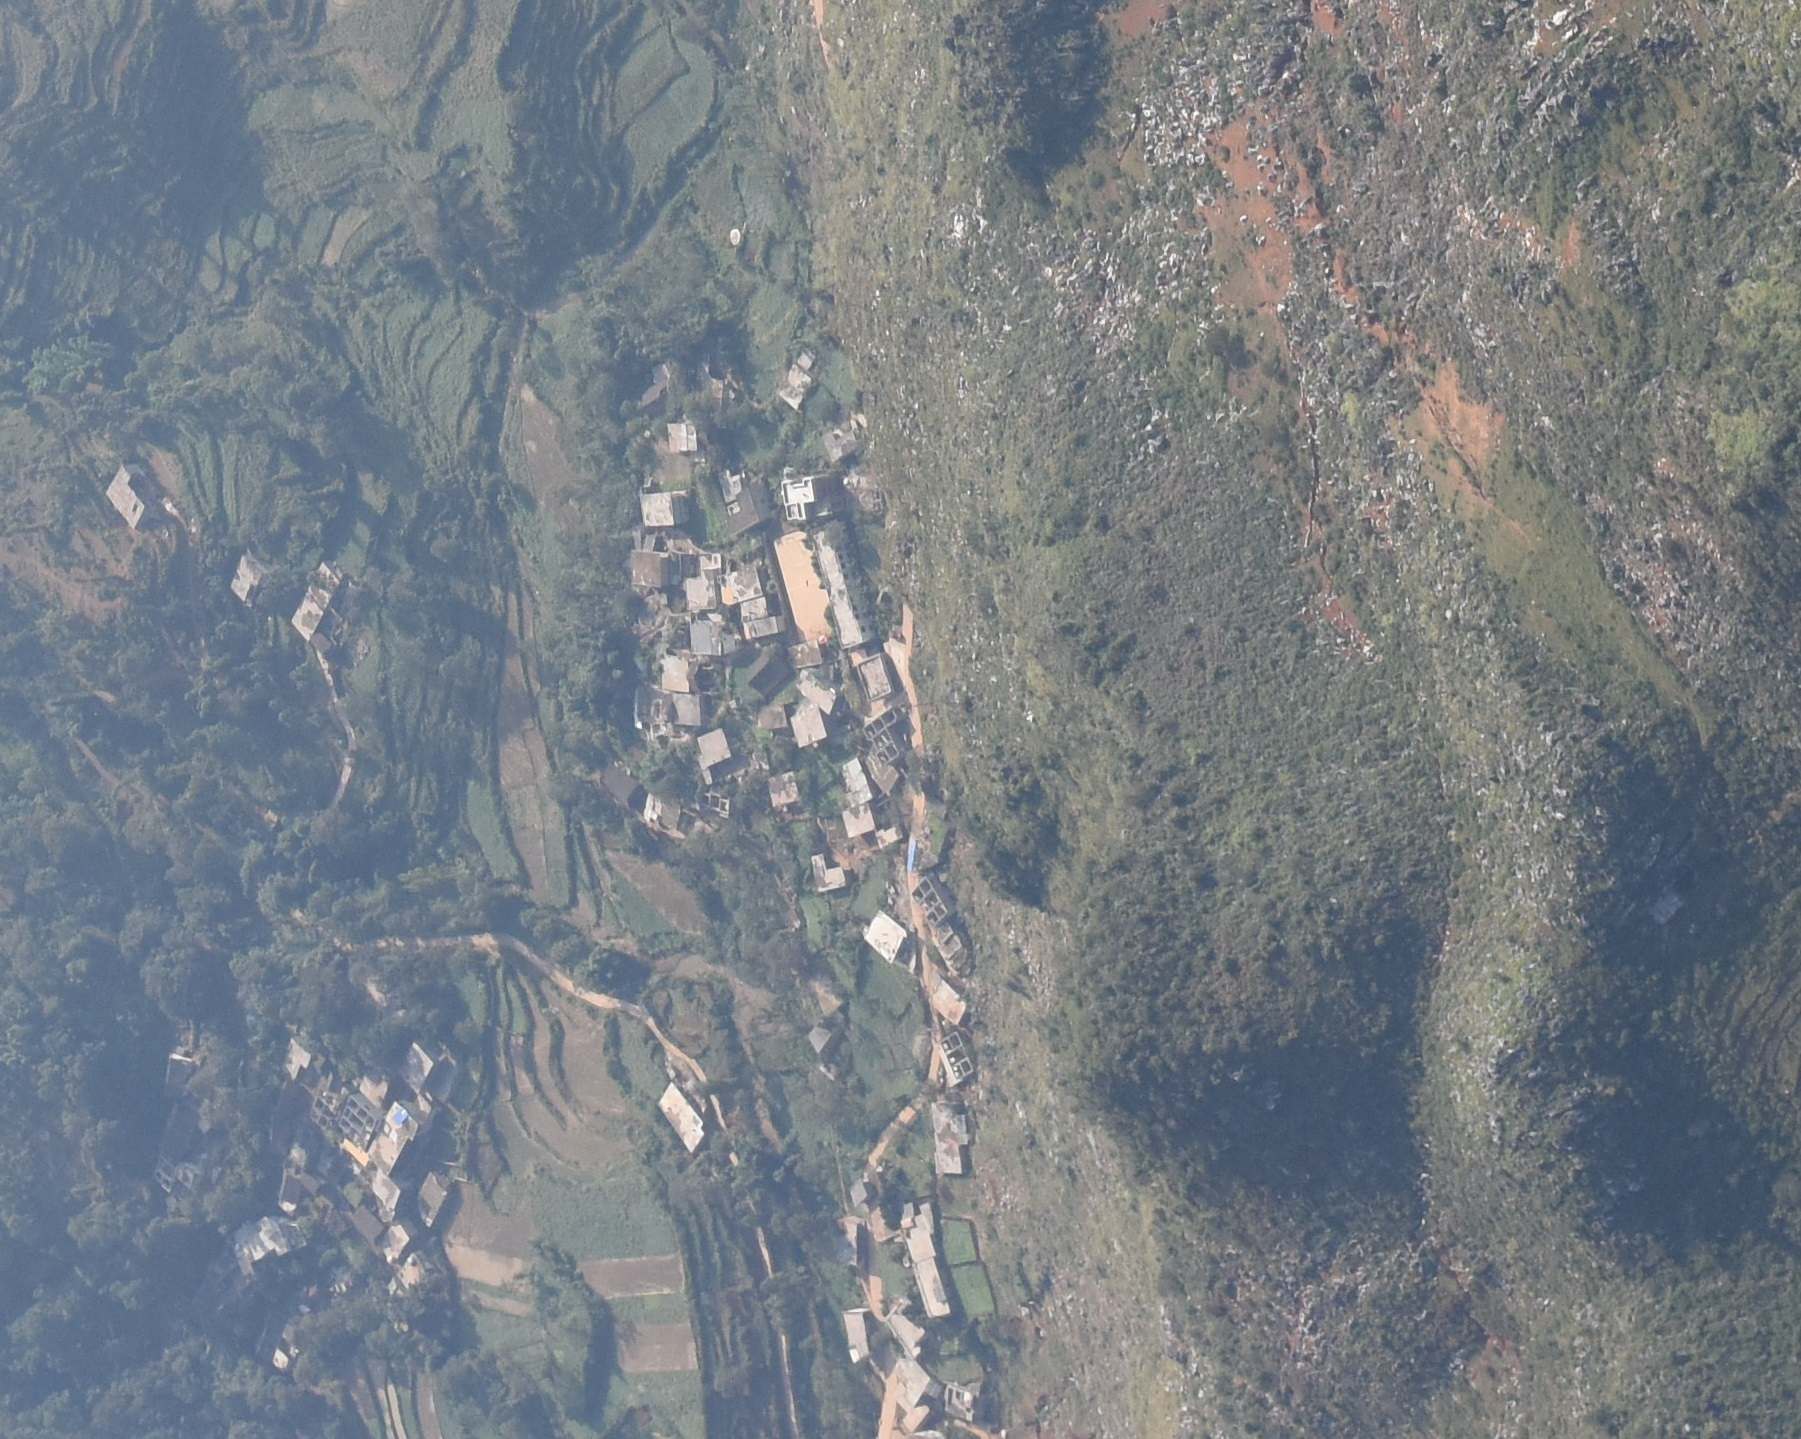building: (812, 521, 884, 648), (772, 529, 838, 640), (310, 1070, 386, 1166), (903, 1201, 958, 1316), (294, 562, 351, 650), (597, 768, 677, 828), (229, 1219, 308, 1275), (888, 1358, 942, 1438), (367, 1101, 421, 1176), (104, 465, 160, 533), (716, 465, 768, 537), (398, 1037, 464, 1092), (931, 1104, 978, 1176), (659, 1084, 705, 1153), (851, 1172, 898, 1233), (628, 534, 684, 584), (779, 467, 829, 520), (776, 347, 818, 410), (385, 1253, 432, 1307), (821, 416, 873, 463), (279, 1026, 321, 1082), (230, 551, 272, 608), (865, 907, 906, 965), (277, 1154, 323, 1206), (636, 364, 681, 413), (684, 555, 722, 612), (804, 966, 848, 1015), (885, 1305, 928, 1354), (796, 667, 840, 712), (785, 700, 828, 747), (684, 620, 735, 656), (832, 1214, 866, 1270), (365, 1170, 407, 1216), (638, 490, 691, 526), (737, 601, 784, 640), (415, 1170, 449, 1225), (157, 1054, 201, 1095), (843, 753, 873, 808), (856, 653, 892, 697), (931, 978, 966, 1023), (866, 750, 903, 791), (746, 653, 784, 692), (766, 772, 804, 811), (346, 1207, 386, 1244), (810, 855, 850, 891), (696, 728, 732, 766), (845, 1307, 870, 1361), (728, 562, 763, 599), (663, 420, 699, 454), (838, 808, 876, 838), (806, 1022, 841, 1054), (754, 706, 790, 736), (663, 653, 690, 692), (380, 1225, 411, 1257), (269, 1345, 301, 1374), (781, 648, 823, 670), (672, 695, 702, 725), (873, 827, 901, 847)
prefabricated-house: (906, 837, 920, 872)
well: (730, 228, 743, 247)
